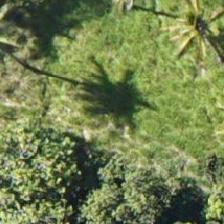coconut_tree: (153, 0, 223, 65)
